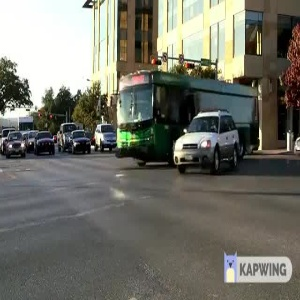bus: (113, 70, 267, 166)
car: (168, 108, 240, 170)
